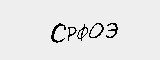О: (88, 21, 104, 40)
Р: (66, 25, 77, 44)
С: (50, 22, 67, 44)
Ф: (76, 22, 89, 44)
Э: (105, 19, 118, 41)
